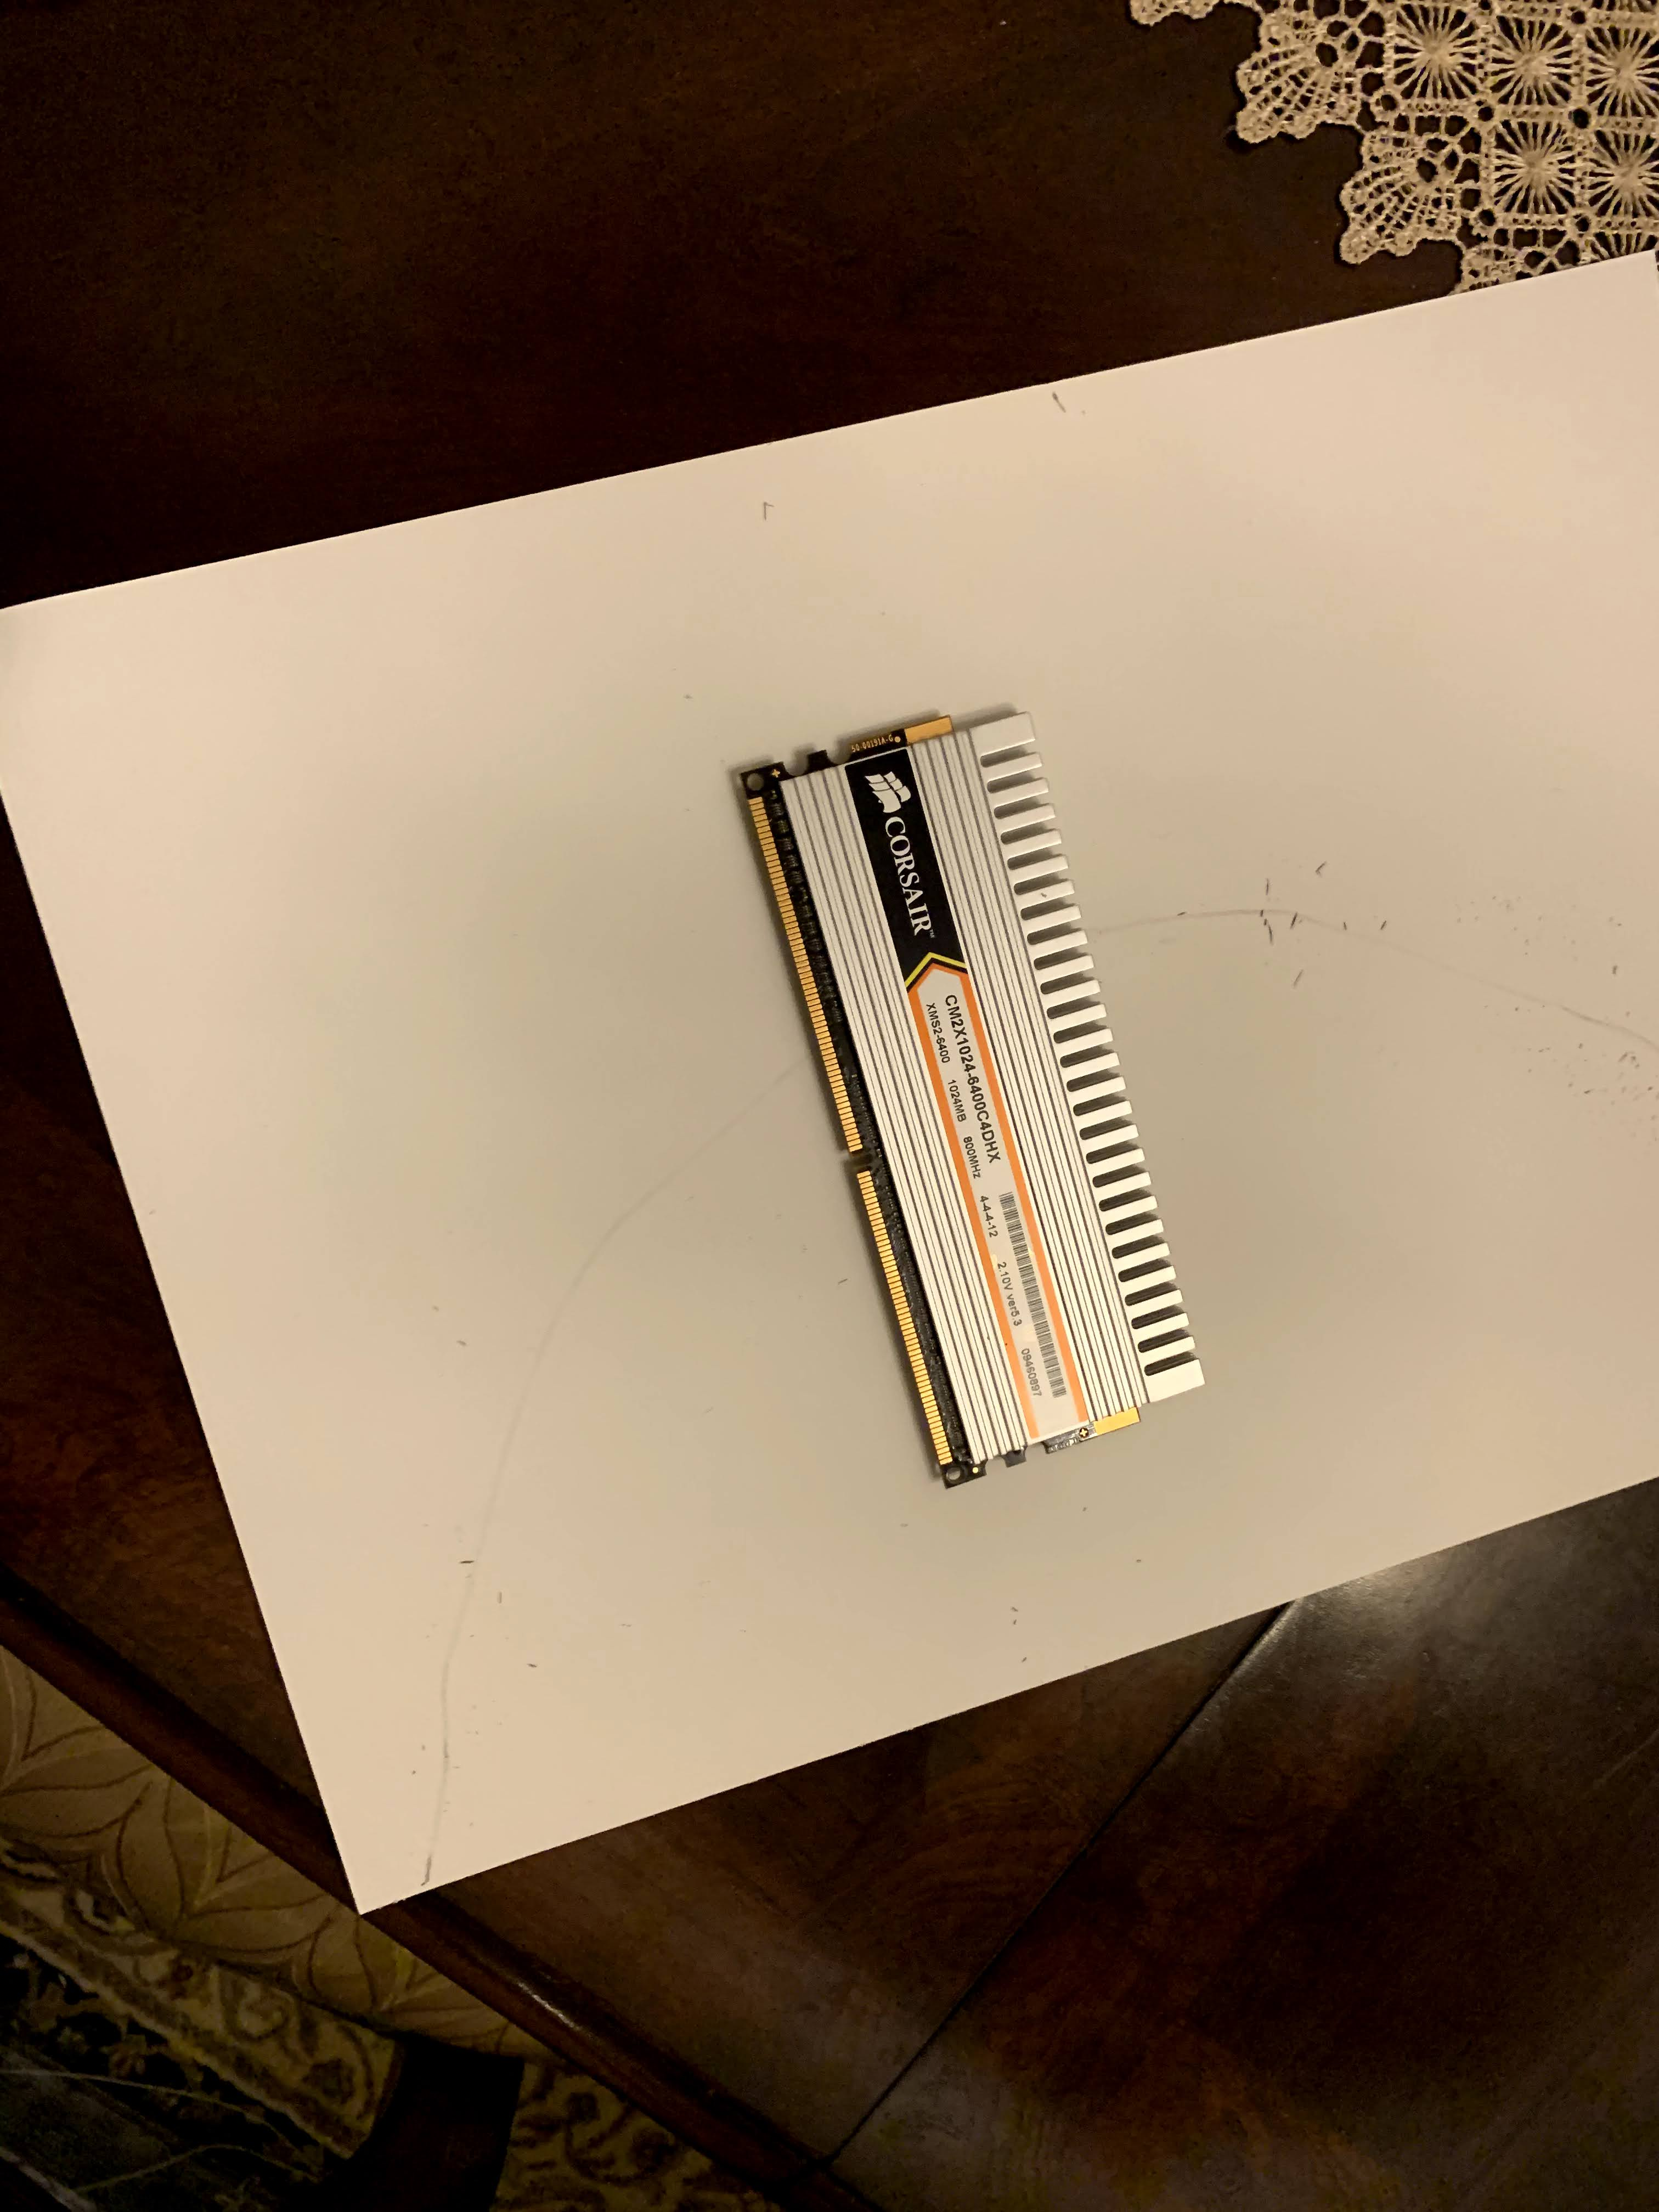Space-debris-medium: (695, 695, 1260, 1501)
